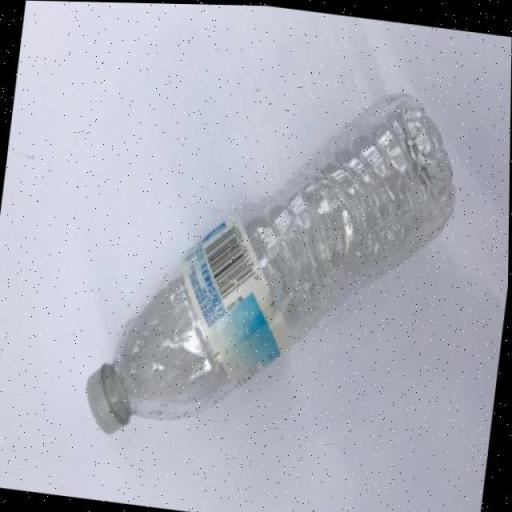plastic: (79, 54, 465, 474)
